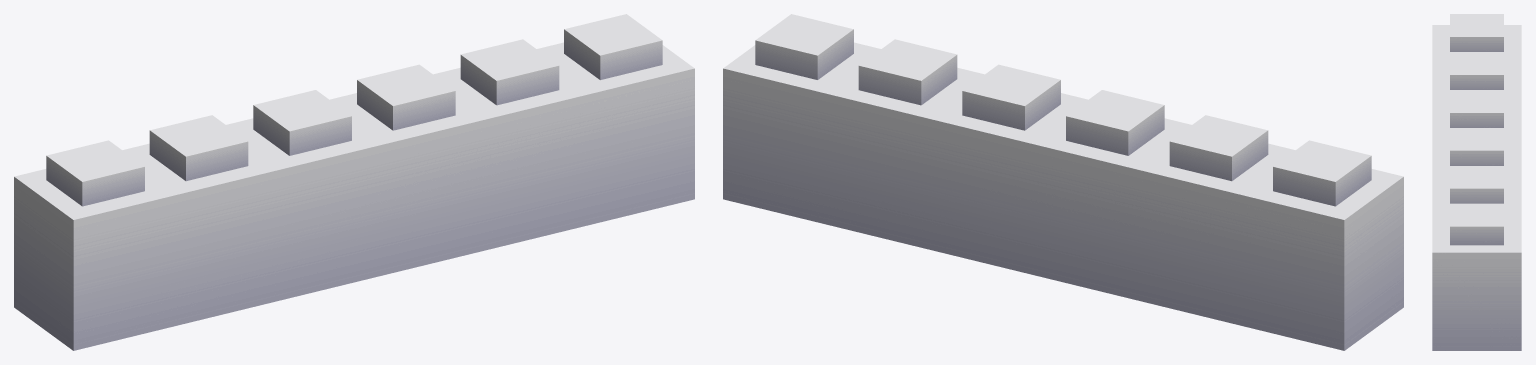
The model's file is square-lq-brick-1x6.glb.
3 renders of one model, left to right at view 1: azimuth 30°, elevation 25°; view 2: azimuth 150°, elevation 25°; view 3: azimuth 270°, elevation 25°, orthographic. The views are drawn at different scales.
Parts seen in each view (by area): view 1: square-lq-brick-1x6; view 2: square-lq-brick-1x6; view 3: square-lq-brick-1x6.
Part boxes in pixels (x1,y1,x2,y2): square-lq-brick-1x6: (14, 14, 694, 350); square-lq-brick-1x6: (723, 14, 1403, 350); square-lq-brick-1x6: (1432, 14, 1521, 350).
Bounding box in the file's own units: 0.477 × 0.114 × 0.079.
Materials: 1 (1 with a texture image).
